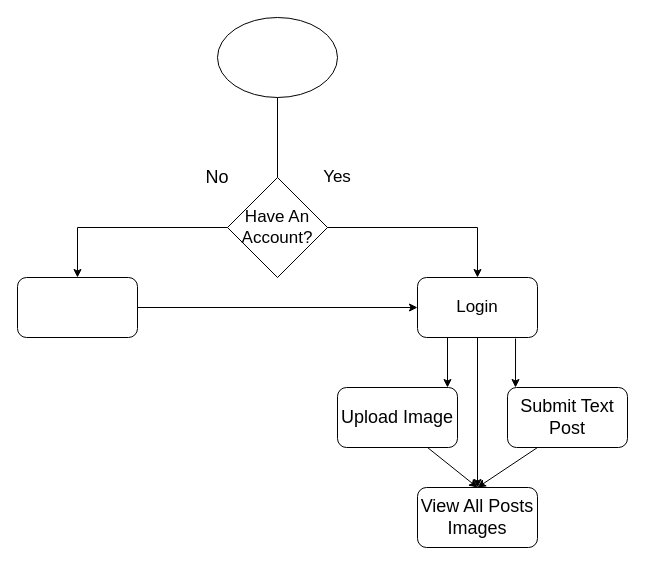
This 645x565 diagram has some shape labels left out. The shapes that lost their labels are listed below. From the top down, each one's box as (x1, y1, x2, y2) in pixels, then its label:
(216, 16, 338, 98): Start
(16, 276, 138, 338): Register
